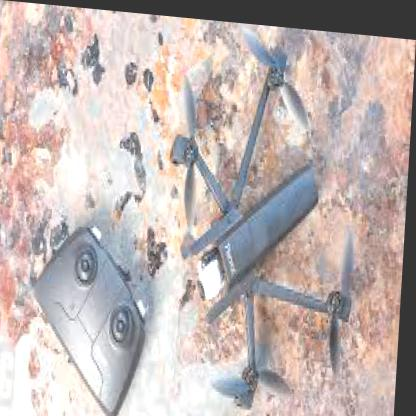UAS: (160, 21, 368, 412)
